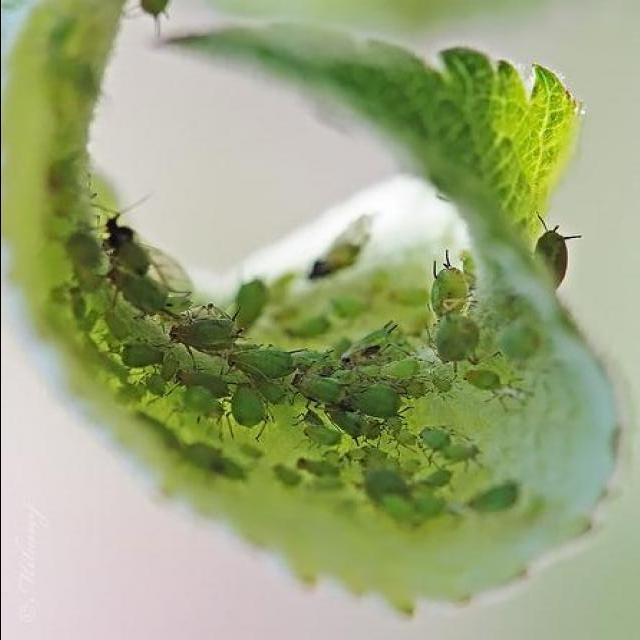aphid: (52, 216, 574, 488)
